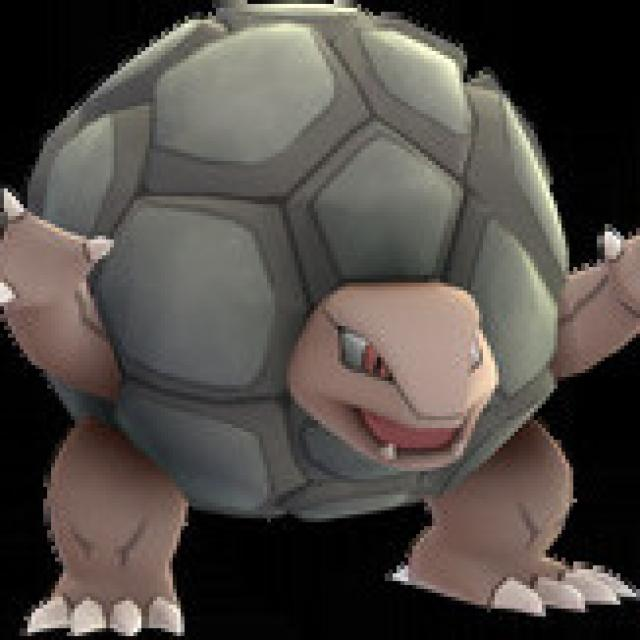Golem: (1, 3, 631, 640)
